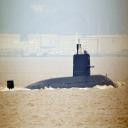submarine: (8, 42, 116, 91)
